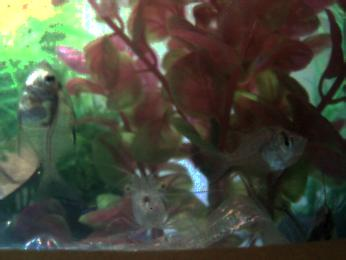X-ray fish: (17, 59, 78, 191), (209, 125, 306, 181)
siberian prawn: (116, 167, 197, 241)
